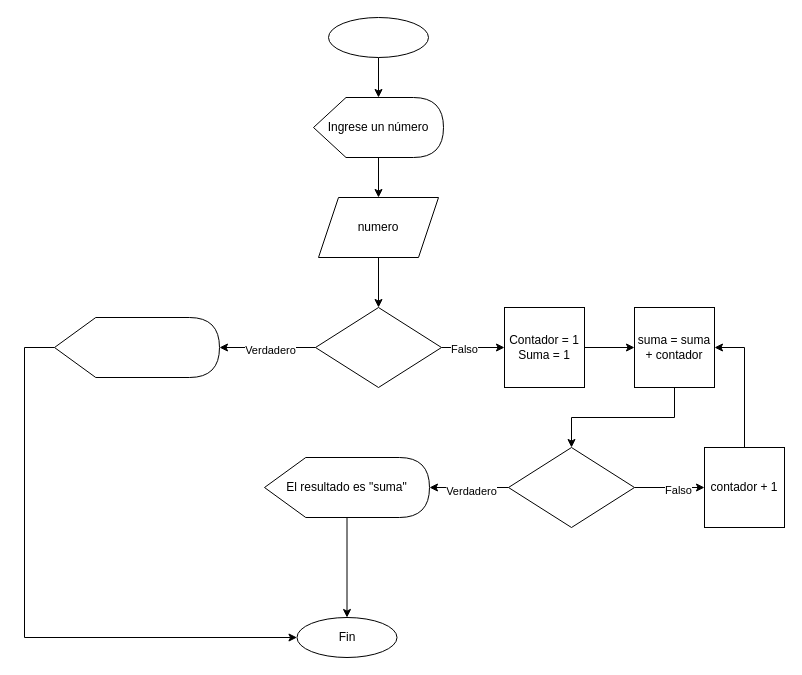
This 802x675 diagram has some shape labels left out. The centre of each missing label's shape, as x and y in pixels:
"contador = numero" belongs at point (571, 487).
"El resultado es 1" belongs at point (137, 347).
"Inicio" belongs at point (378, 37).
"Número = 1" belongs at point (378, 347).
